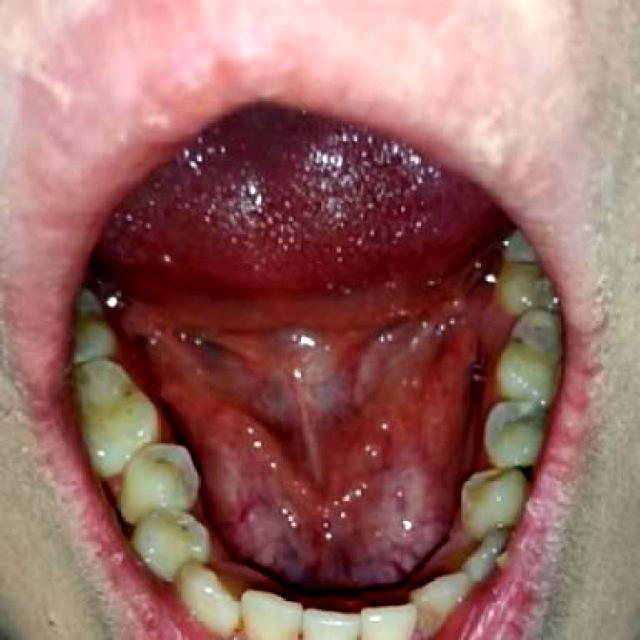Plaque: (506, 255, 555, 300), (149, 457, 189, 487), (117, 381, 137, 404), (171, 519, 194, 536), (510, 333, 530, 352)
